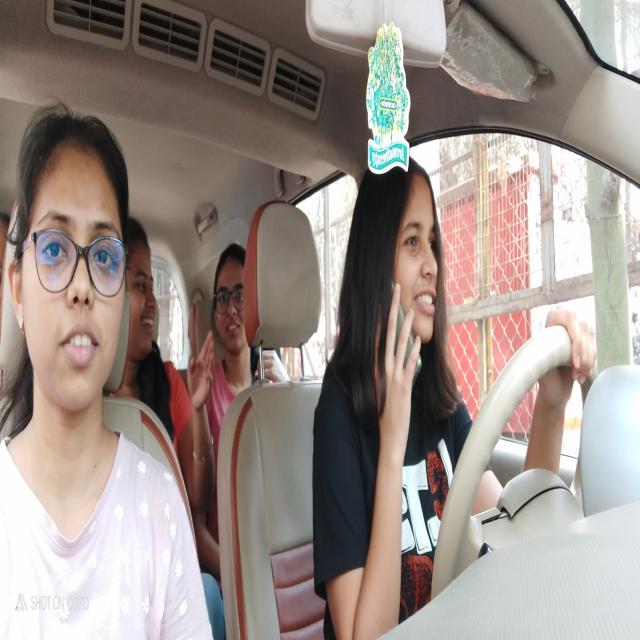mobile: (380, 286, 426, 380)
person: (9, 120, 129, 430), (351, 159, 445, 360), (211, 240, 254, 375), (124, 220, 162, 370)
